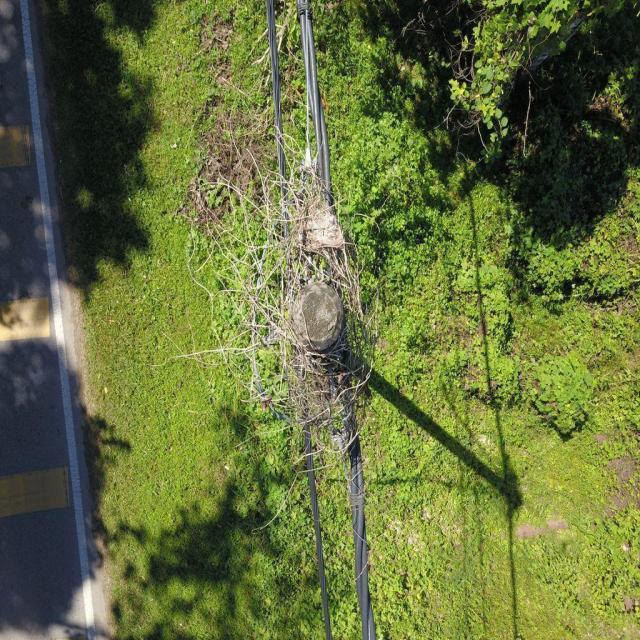critical vegetation: (238, 150, 375, 451)
